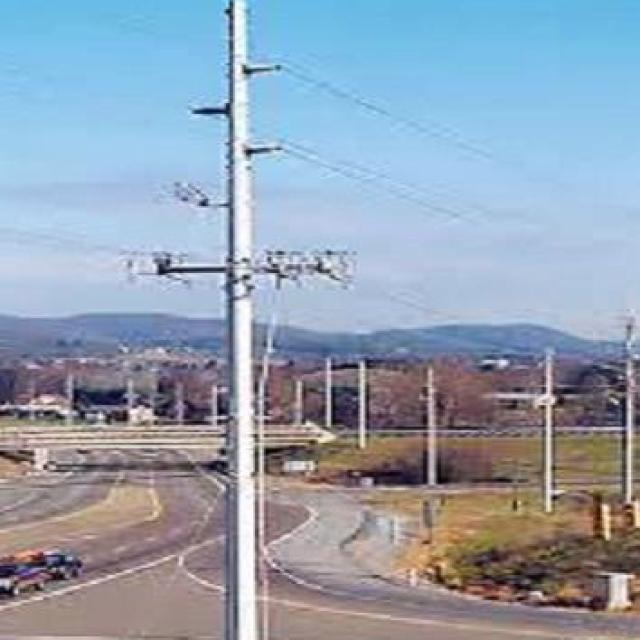non-critical vegetation: (134, 7, 331, 640)
